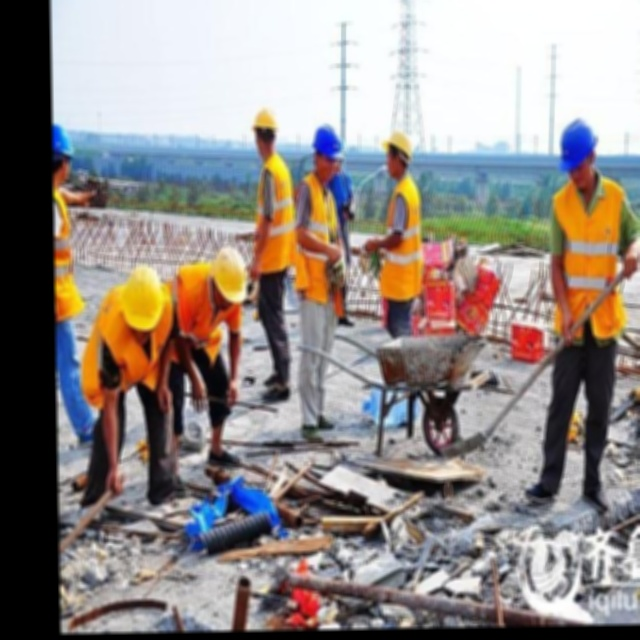Con_Chaleco: (552, 181, 629, 342), (379, 175, 424, 301), (296, 179, 339, 303), (254, 156, 296, 272)
